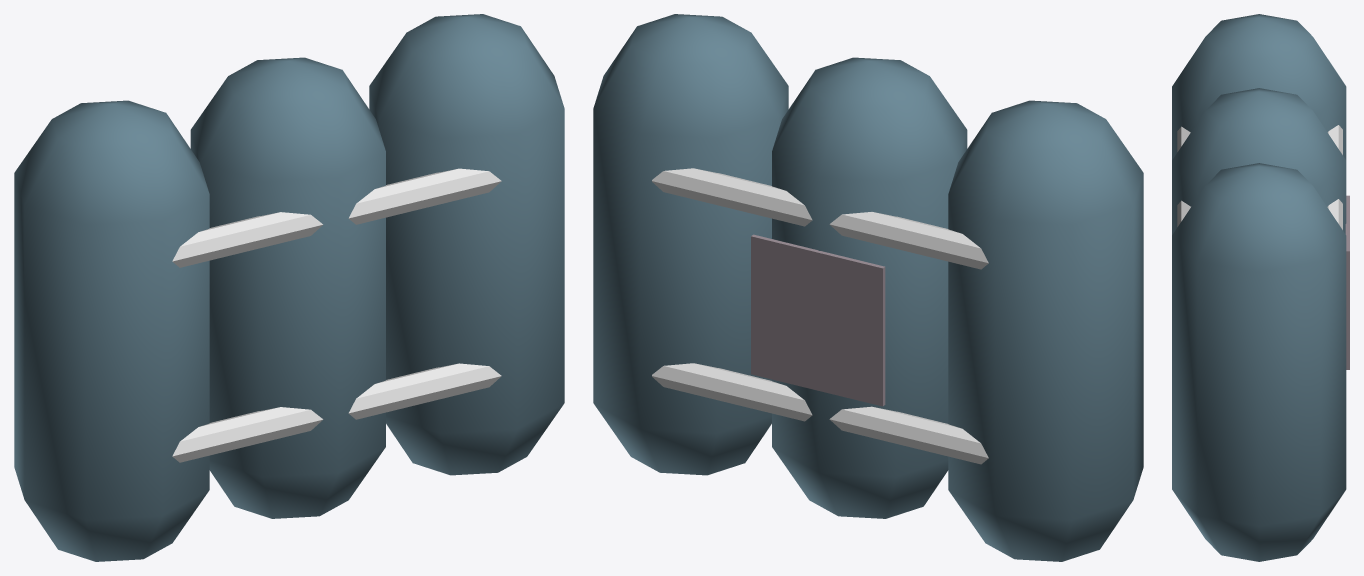
File: bombole-fuel.glb
3 views of the same model, side by side, from view 1: azimuth 30°, elevation 25°; view 2: azimuth 150°, elevation 25°; view 3: azimuth 270°, elevation 25° (orthographic). The views are drawn at different scales.
Parts seen in each view (by area): view 1: bombole, tubi; view 2: bombole, piastra, tubi; view 3: bombole, tubi, piastra.
Boxes of the visible parts, bbox=[...] form: bombole: bbox=[14, 14, 564, 561]; tubi: bbox=[172, 168, 501, 462]; bombole: bbox=[593, 14, 1143, 561]; piastra: bbox=[751, 234, 885, 406]; tubi: bbox=[652, 168, 988, 464]; bombole: bbox=[1172, 14, 1346, 561]; tubi: bbox=[1177, 125, 1342, 229]; piastra: bbox=[1345, 195, 1349, 369].
Bounding box in the file's own units: 5.75 × 4.72 × 1.94.
